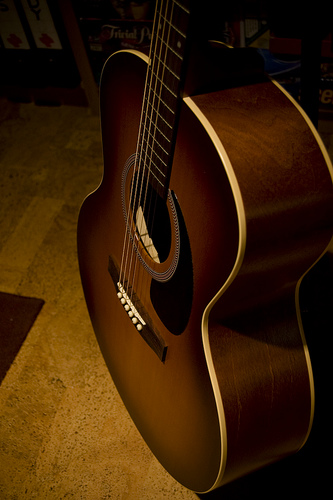guitar: (71, 1, 333, 497)
